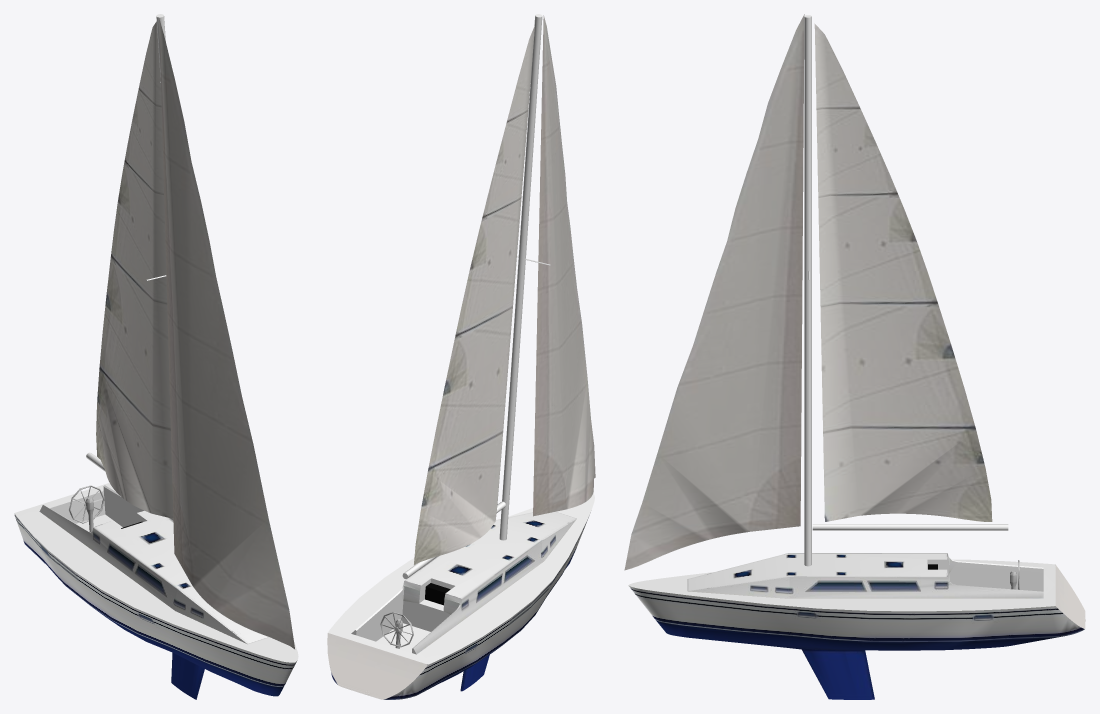
The model's file is yacht.glb.
3 renders of one model, left to right at view 1: azimuth 30°, elevation 25°; view 2: azimuth 150°, elevation 25°; view 3: azimuth 270°, elevation 25°, orthographic. The views are drawn at different scales.
Bounding box in the file's own units: 1.24 × 6.2 × 3.91.
5 materials, 2 textured.
